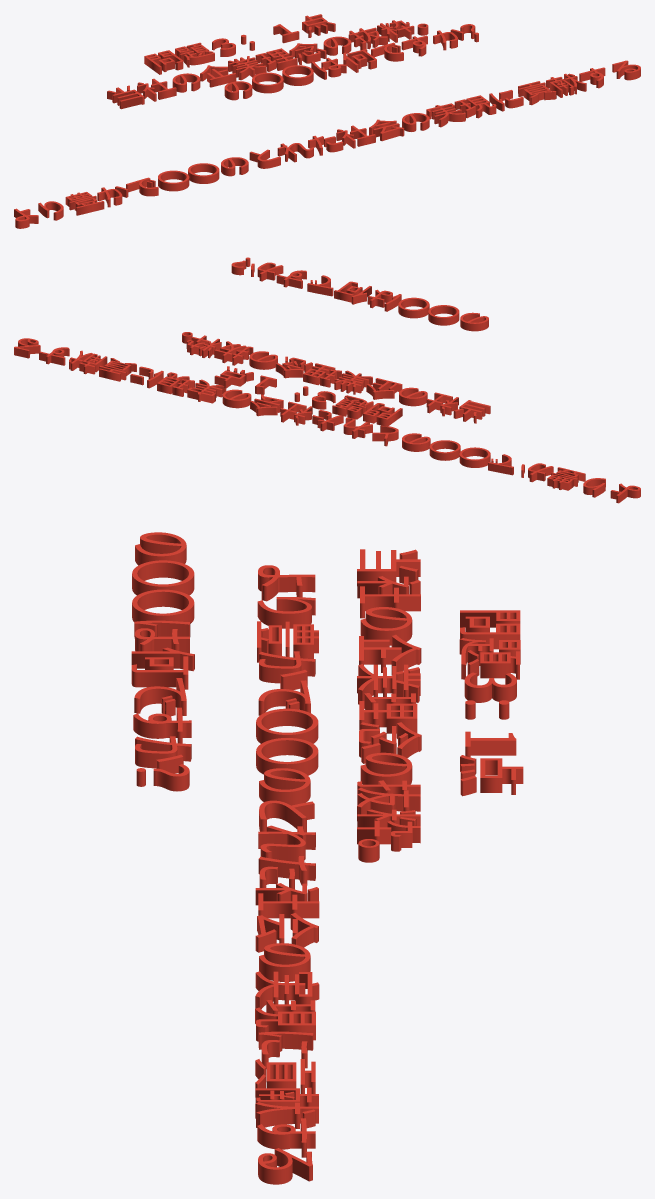
3 views of the same model, one above another, from view 1: azimuth 30°, elevation 25°; view 2: azimuth 150°, elevation 25°; view 3: azimuth 270°, elevation 25° (orthographic). The views are drawn at different scales.
Visible parts, largest first — view 1: テキスト.003, テキスト.001, テキスト.002, テキスト.004; view 2: テキスト.003, テキスト.001, テキスト.002, テキスト.004; view 3: テキスト.003, テキスト.001, テキスト.002, テキスト.004.
Part boxes in pixels (x1,y1,x2,y2): テキスト.003: (14,60,640,228); テキスト.001: (107,20,428,109); テキスト.002: (224,24,478,100); テキスト.004: (144,14,335,74); テキスト.003: (14,338,640,503); テキスト.001: (182,332,490,423); テキスト.002: (231,257,488,331); テキスト.004: (214,366,402,426); テキスト.003: (255,565,319,1184); テキスト.001: (357,549,421,862); テキスト.002: (131,532,194,791); テキスト.004: (459,610,523,796).
Bounding box in the file's own units: 20.73 × 3.58 × 5.68.
